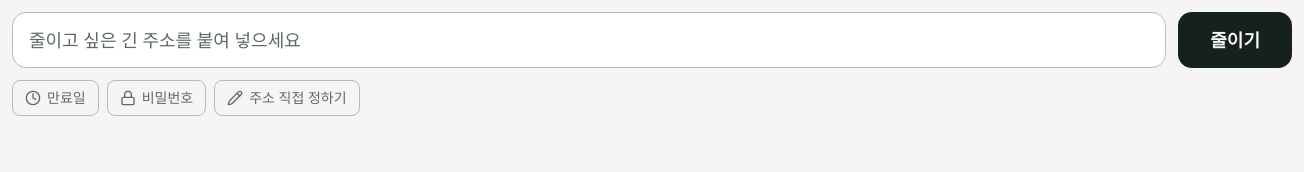
Test: Composer › 주소가 비어 있으면 서버를 부르지 않고 안내한다
Click the button "줄이기": (1235, 40) [1178,12,1292,68]
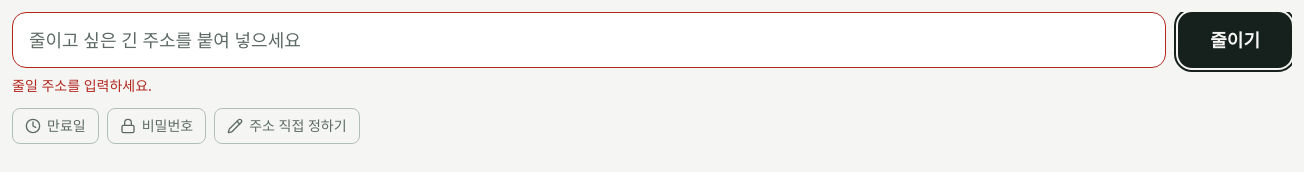
Now the message reads "줄일 주소를 입력하세요.", box [12,76,152,95]
